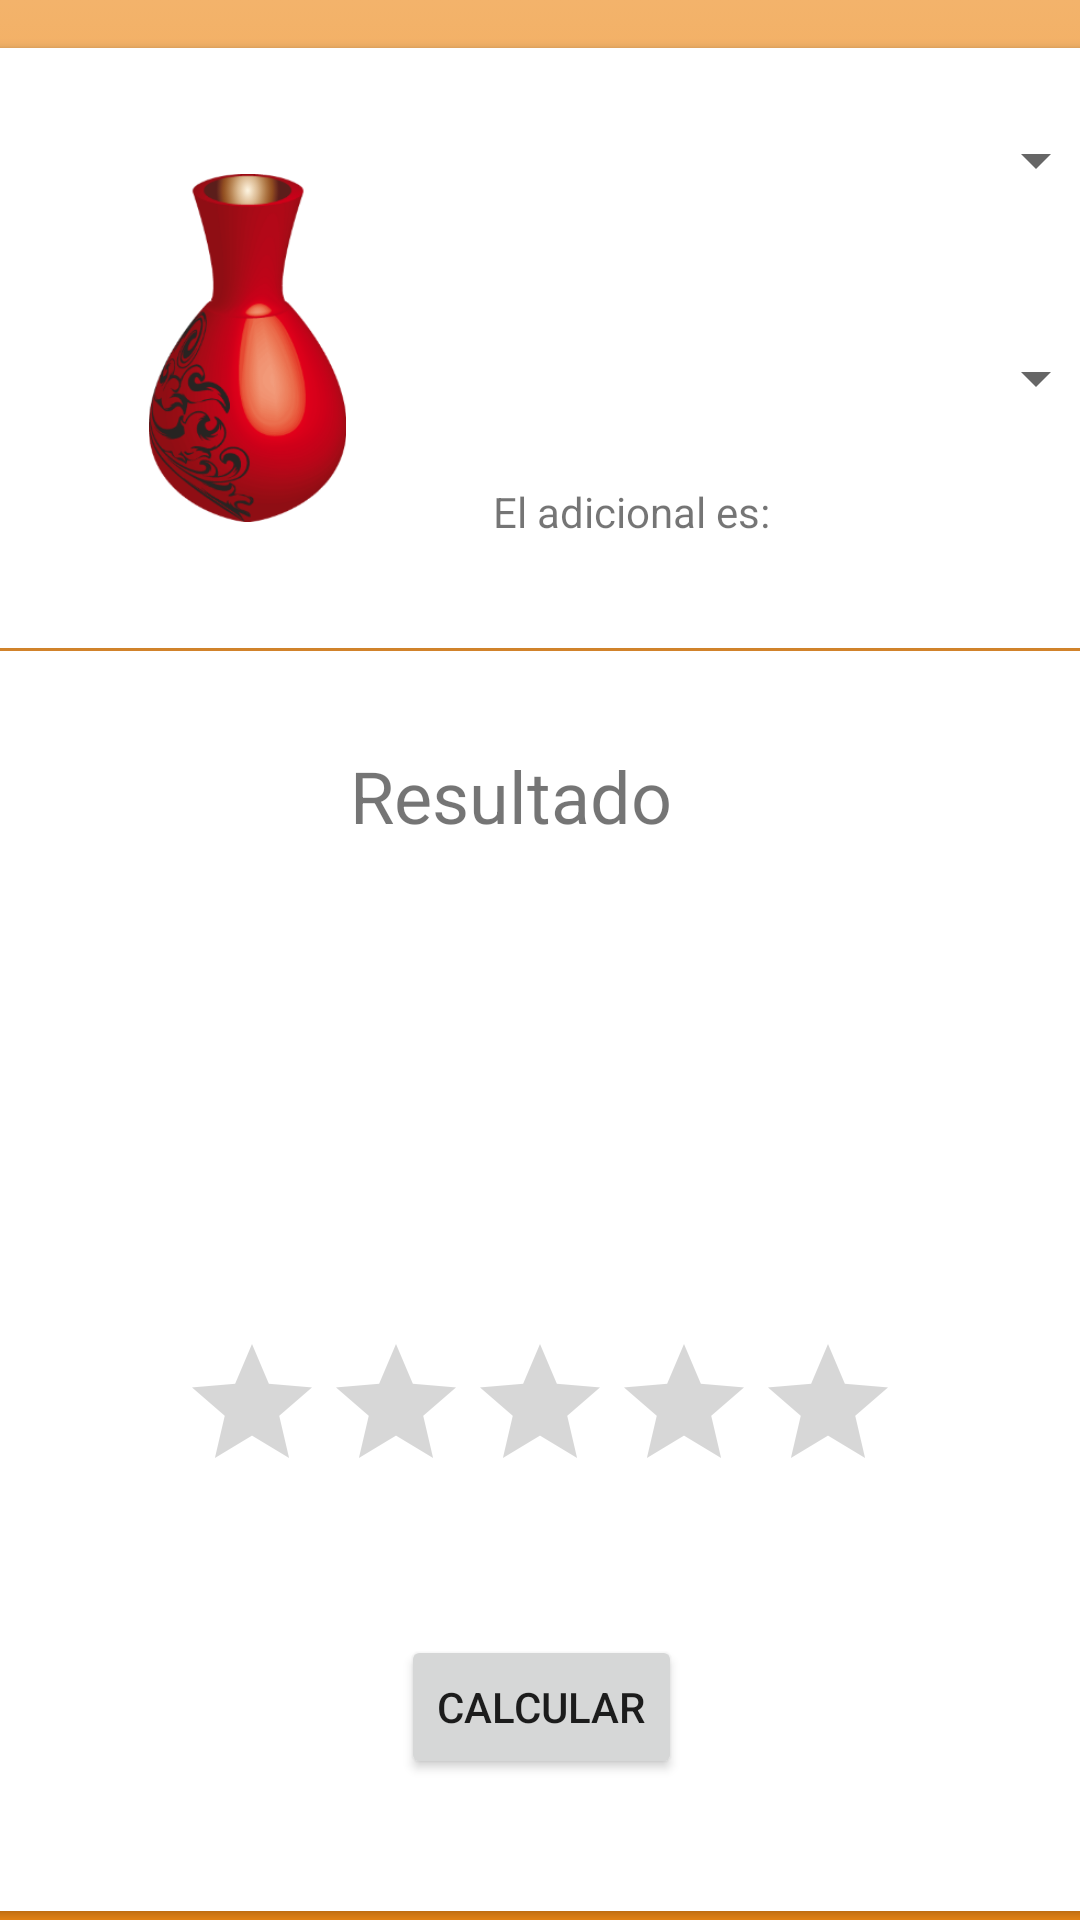

Screen size 1080px×1920px. Icon name, then its center in pixels as [x,y]:
jarron: [247,348]
